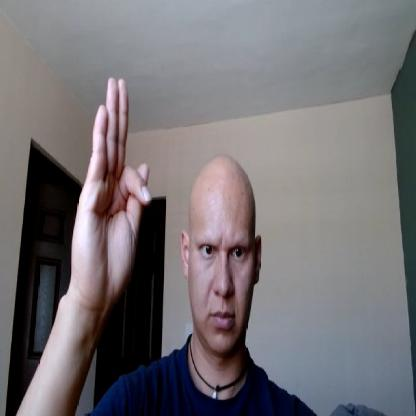F: (70, 74, 152, 299)
